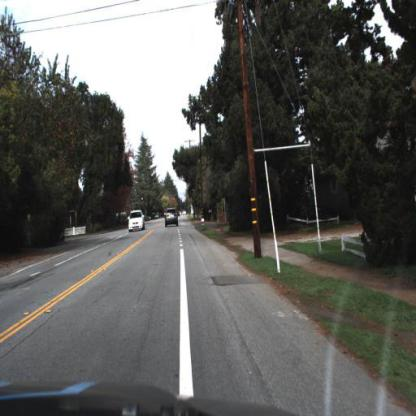car: (127, 209, 145, 233), (165, 206, 182, 230)
